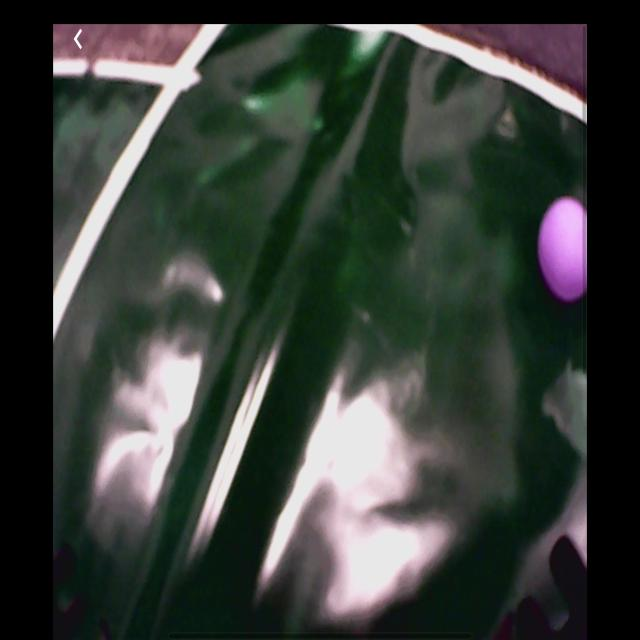ball: (541, 198, 587, 302)
